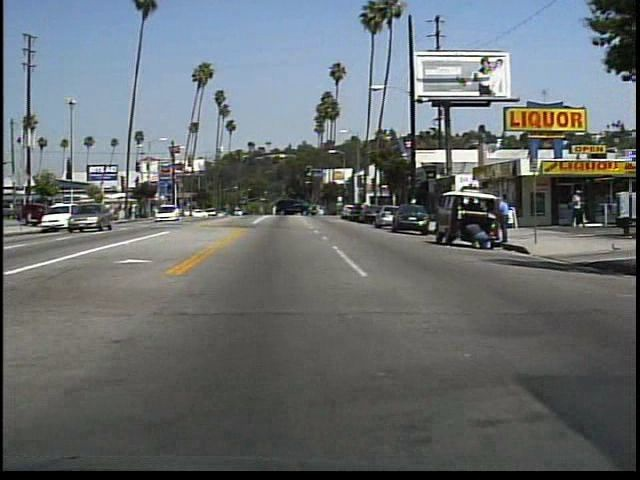person: (494, 192, 514, 244), (464, 220, 491, 253), (570, 187, 586, 231)
